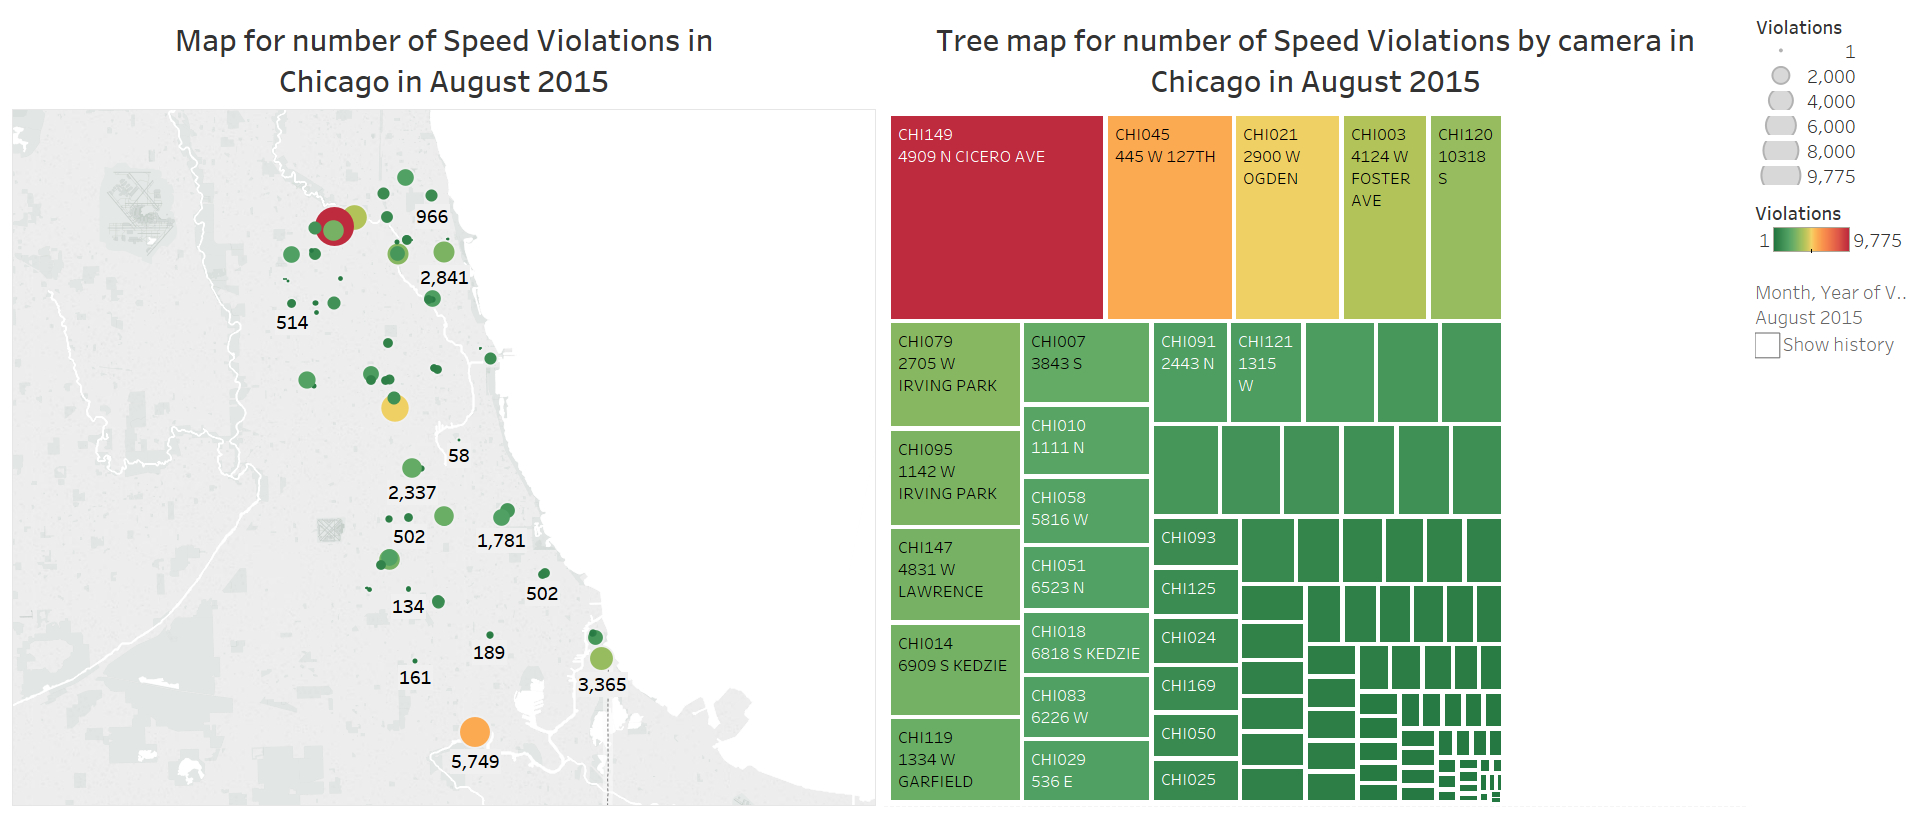

This screenshot's page, from the dashboard's own definition file:
{"tool":"tableau","page":{"name":"Dashboard 2","canvas":[1000,1000],"units":"permille","ordinal":1},"visuals":[{"type":"worksheet","title":"Map for violation by years","mark":"Automatic","rows":["LATITUDE"],"cols":["LONGITUDE"],"box":[4.2,9.8,454.2,980.4]},{"type":"worksheet","title":"Tree map for violation by years","mark":"Automatic","box":[458.3,9.8,454.1,980.4]},{"type":"legend","title":"Map for violation by years","param":"[federated.0hk1a2y0ehueoz16vlfmc15q6511].[sum:VIOLATIONS:qk]","box":[912.5,9.8,83.4,224.9]},{"type":"legend","title":"Map for violation by years","param":"[federated.0hk1a2y0ehueoz16vlfmc15q6511].[sum:VIOLATIONS:qk]","box":[912.5,234.7,83.4,99]},{"type":"currpage","title":"Map for violation by years","box":[912.5,333.7,83.4,161.4]}]}

Visuals, with their boxes on the dashboard's canvas, which has no fixed pixel size, in thousandths of its width and height (x1, y1, x2, y2). These are canvas units, not pixel positions in the 1919x818 screenshot, which may show the page scaled, cropped or inside an application window:
"Map for violation by years" worksheet: 4 10 458 990
"Tree map for violation by years" worksheet: 458 10 912 990
"Map for violation by years" legend: 912 10 996 235
"Map for violation by years" legend: 912 235 996 334
"Map for violation by years" currpage: 912 334 996 495
